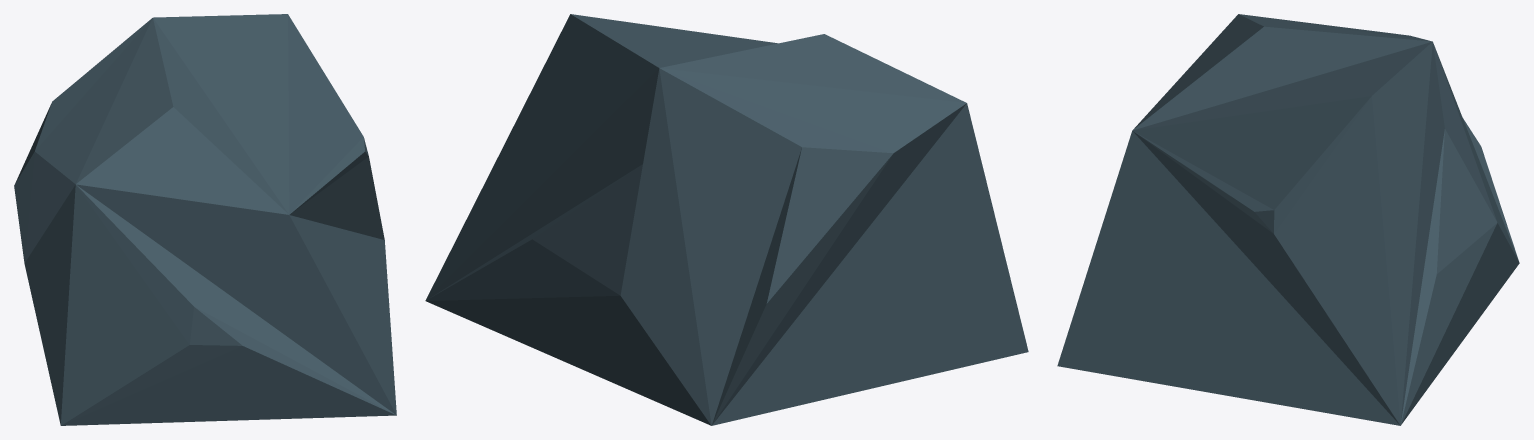
File: stone2.glb
3 renders of one model, left to right at view 1: azimuth 30°, elevation 25°; view 2: azimuth 150°, elevation 25°; view 3: azimuth 270°, elevation 25°, orthographic. The views are drawn at different scales.
Parts seen in each view (by area): view 1: part_1_mesh1735826486; view 2: part_1_mesh1735826486; view 3: part_1_mesh1735826486.
Boxes of the visible parts, bbox=[...] form: part_1_mesh1735826486: bbox=[14, 14, 396, 425]; part_1_mesh1735826486: bbox=[425, 14, 1028, 425]; part_1_mesh1735826486: bbox=[1057, 14, 1519, 425].
Bounding box in the file's own units: 0.1206 × 0.077 × 0.1104.
